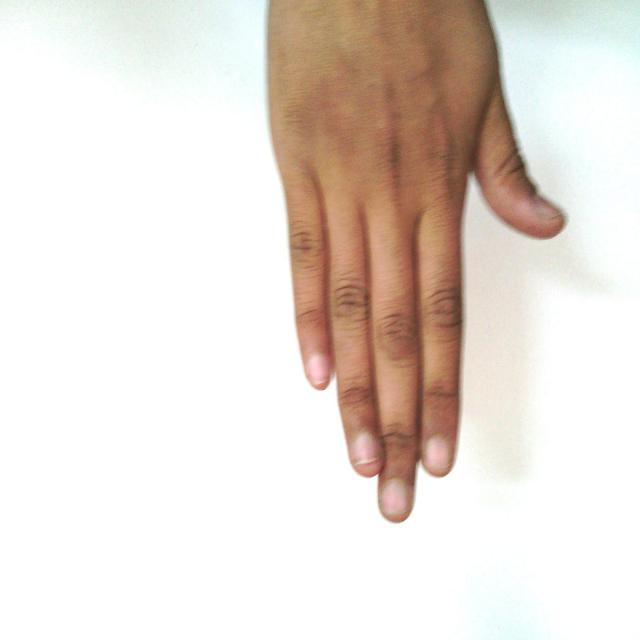others: (251, 1, 577, 545)
